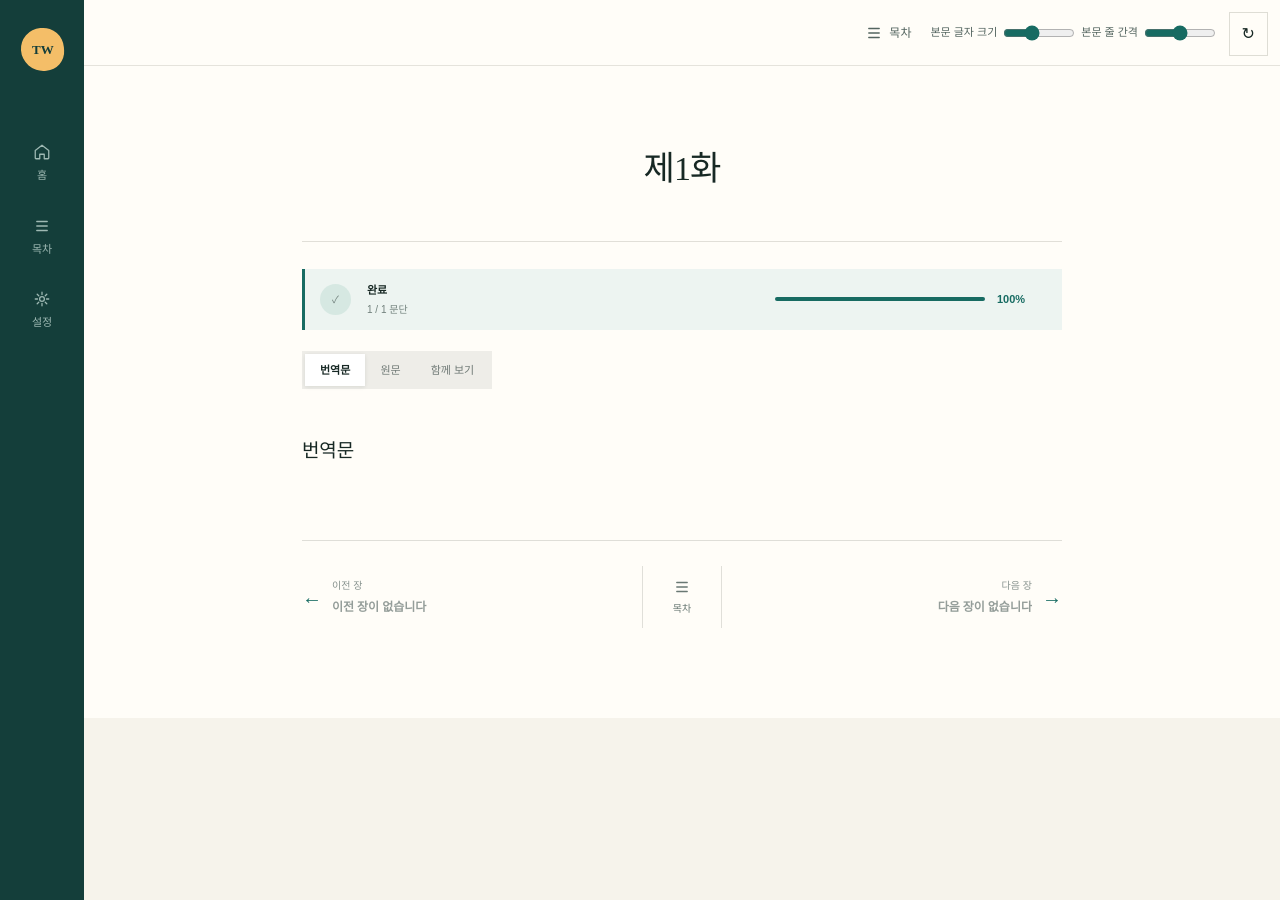
Test case: reader navigation and position › opens the stored local EPUB catalog without asking the source API
Click the button with aria-label "목차 열기 (상단)" at x=888, y=32, box [852,14,924,52]
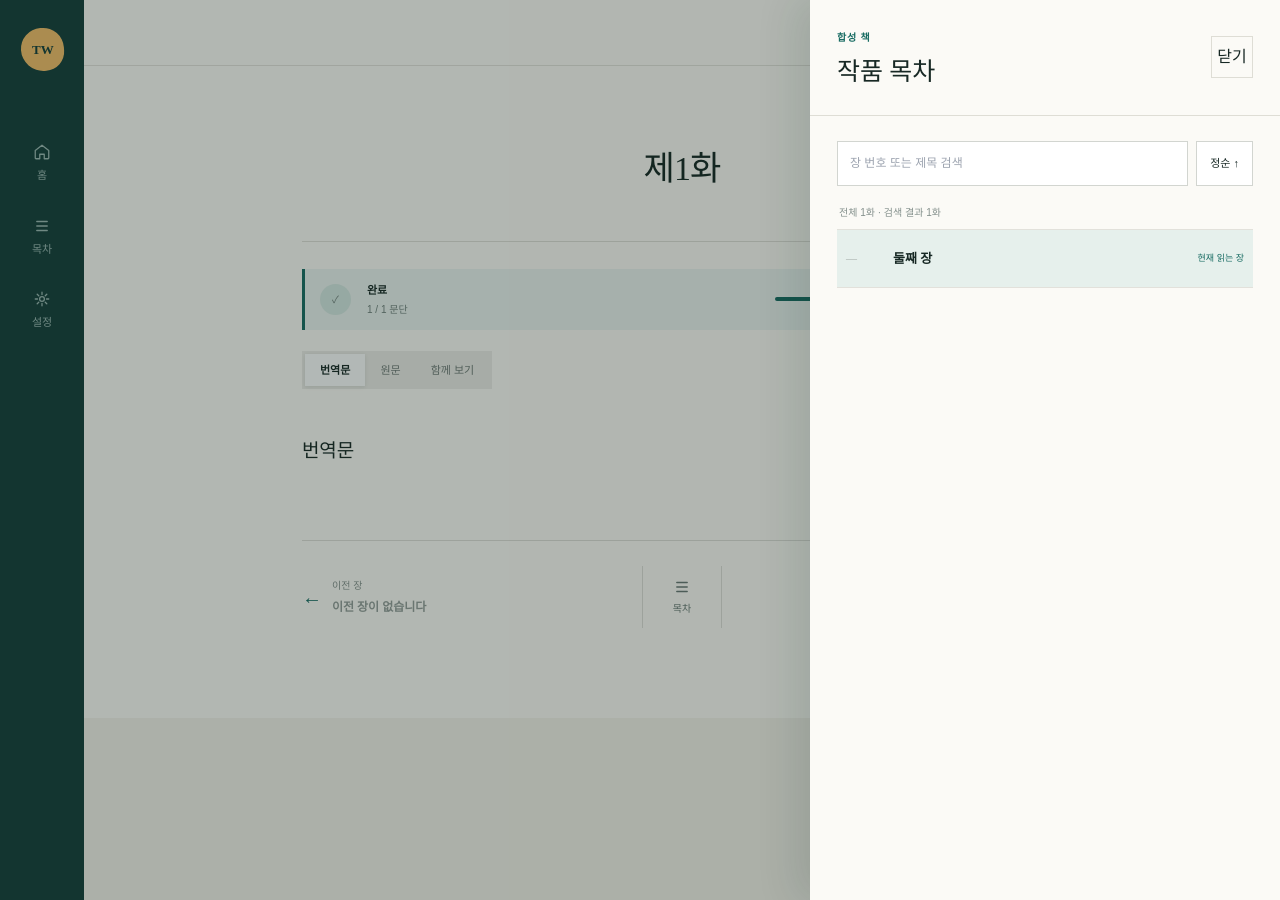
Result: the dialog "합성 책 작품 목차 닫기 정순 ↑ 전체 1화 · 검색 결과 1화 — 둘째 장 현재 읽는 장" is shown at [810,0,1279,899]
